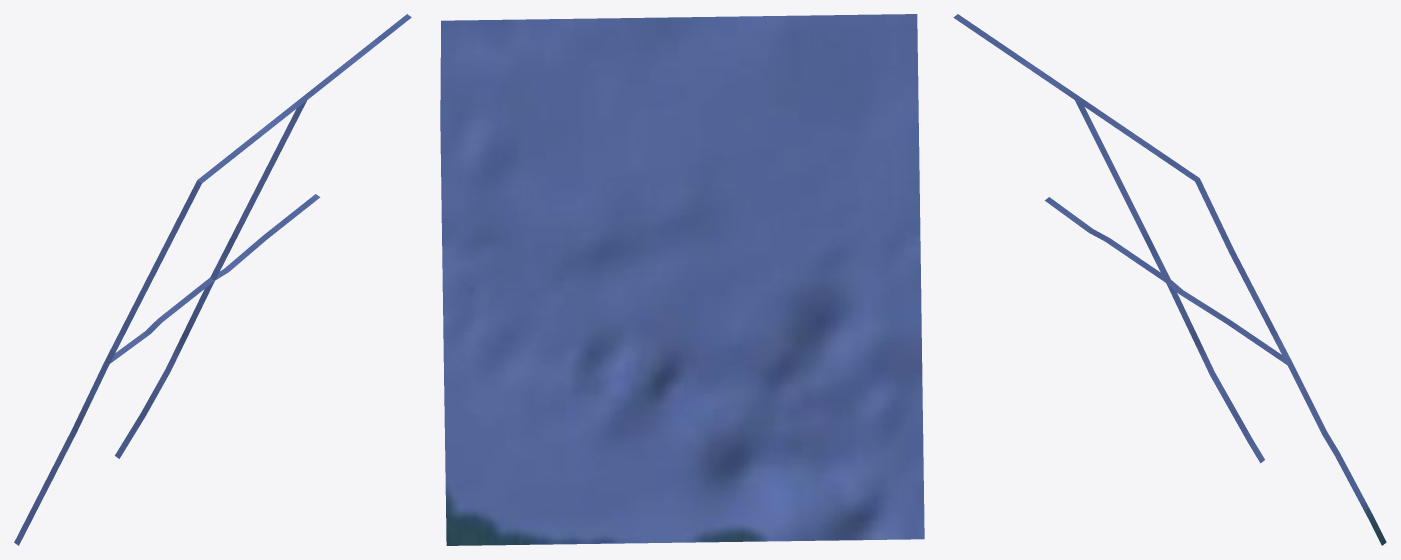
3 renders of one model, left to right at view 1: azimuth 30°, elevation 25°; view 2: azimuth 150°, elevation 25°; view 3: azimuth 270°, elevation 25°, orthographic. The views are drawn at different scales.
Size of the model in its own units: 19579 by 17871 by 16833.
Materials: 1 (1 with a texture image).
